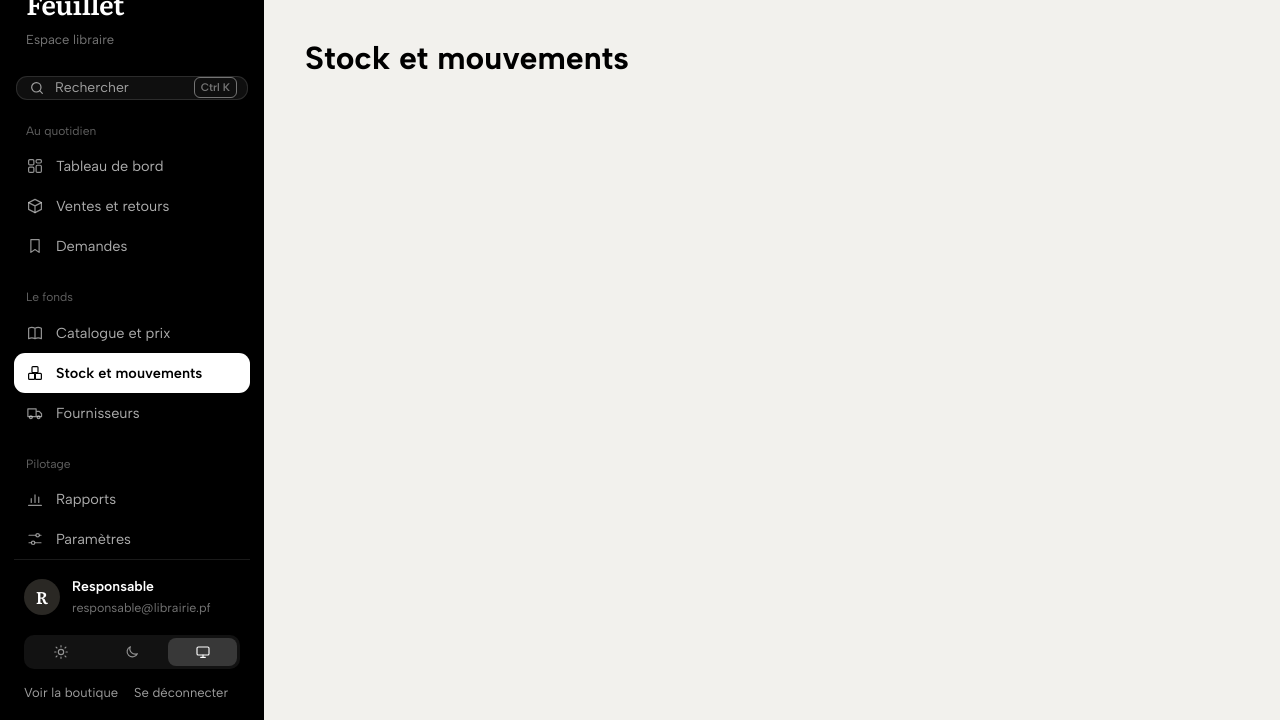
Scenario: cadre de l espace responsable › déconnecte le responsable et le ramène à la connexion
(page scrolled)
What coordinates should you click on to do the following:
click the button "Se déconnecter"
I would click on:
 (181, 694)
Its box is [134,684,228,704].
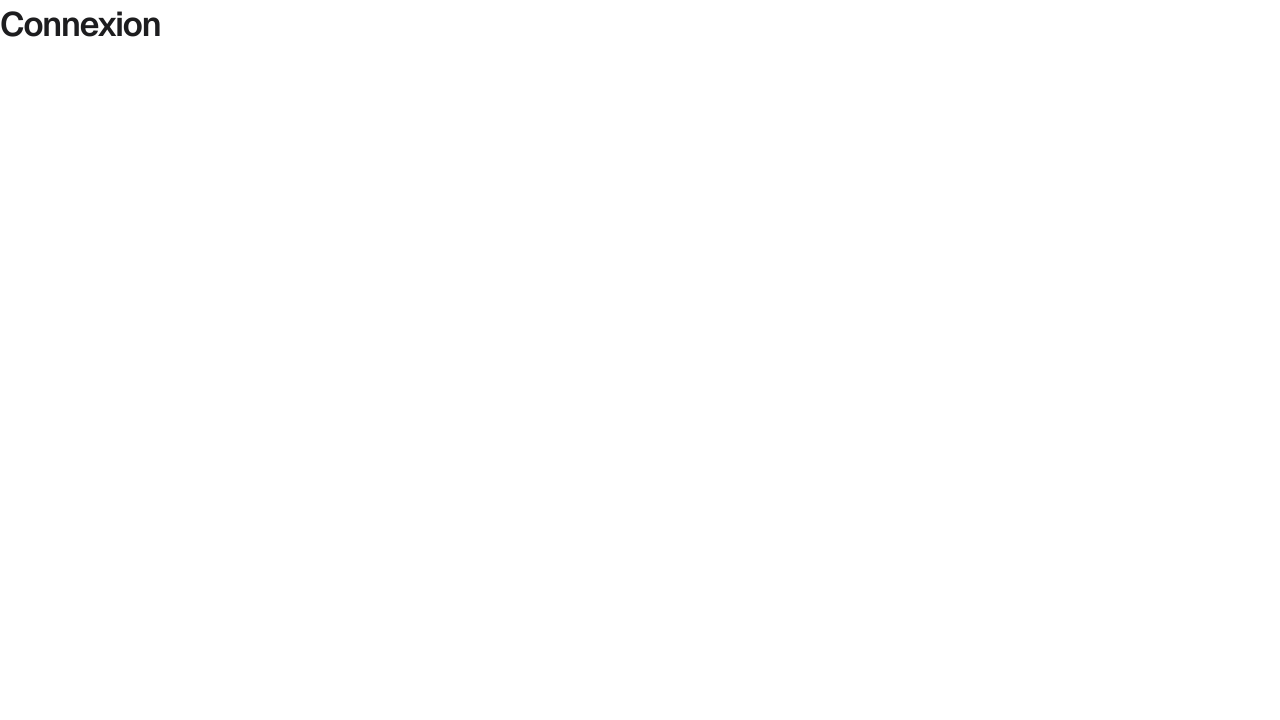
Expected: the heading "Connexion" is shown, [0,2,161,46]
